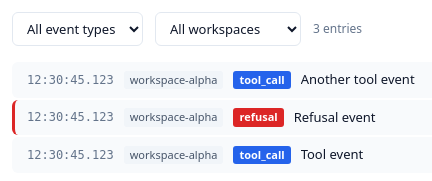
Test: TrailStream › filters entries by event type
Expected: the text "3 entries" is shown, left=313, top=20, right=362, bottom=38
// Filter to refusal only
Select "refusal" in the 1st dropdown at (78, 29), box left=12, top=12, right=143, bottom=46
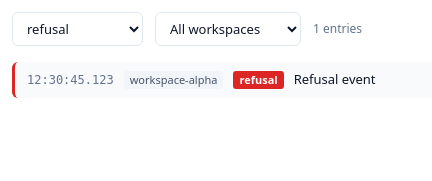
Expected: the text "Refusal event" is shown, left=294, top=70, right=376, bottom=90
Now the text "1 entries" is shown, box left=313, top=20, right=362, bottom=38
Now the button "tool event" is gone
